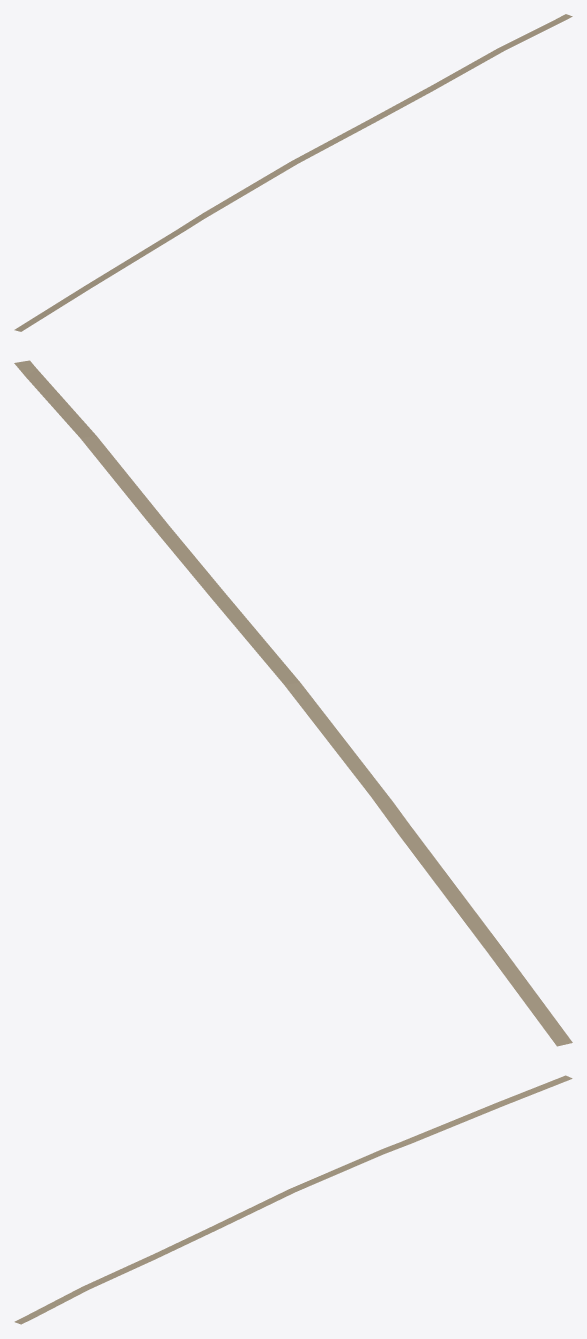
Rendered from farm_0_3_track.glb.
The picture shows the model from 3 angles, top to bottom: view 1: azimuth 90°, elevation 25°; view 2: azimuth 150°, elevation 25°; view 3: azimuth 270°, elevation 25°; orthographic projection. The views are drawn at different scales.
Visible parts, largest first — view 1: geometry_0; view 2: geometry_0; view 3: geometry_0.
Boxes of the visible parts, x1,y1,x2,y2 form: geometry_0: [14, 14, 572, 331]; geometry_0: [14, 360, 572, 1046]; geometry_0: [14, 1075, 572, 1324].
Bounding box in the file's own units: 235 × 13.75 × 196.
